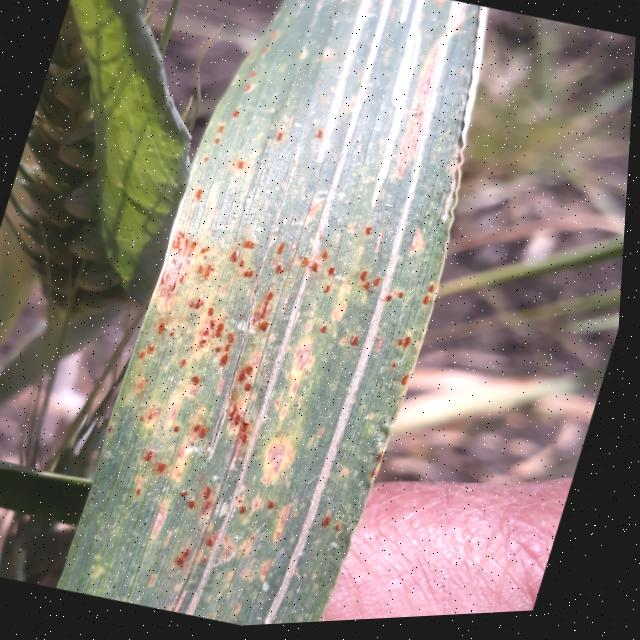black_stem_rust: (42, 0, 526, 637)
